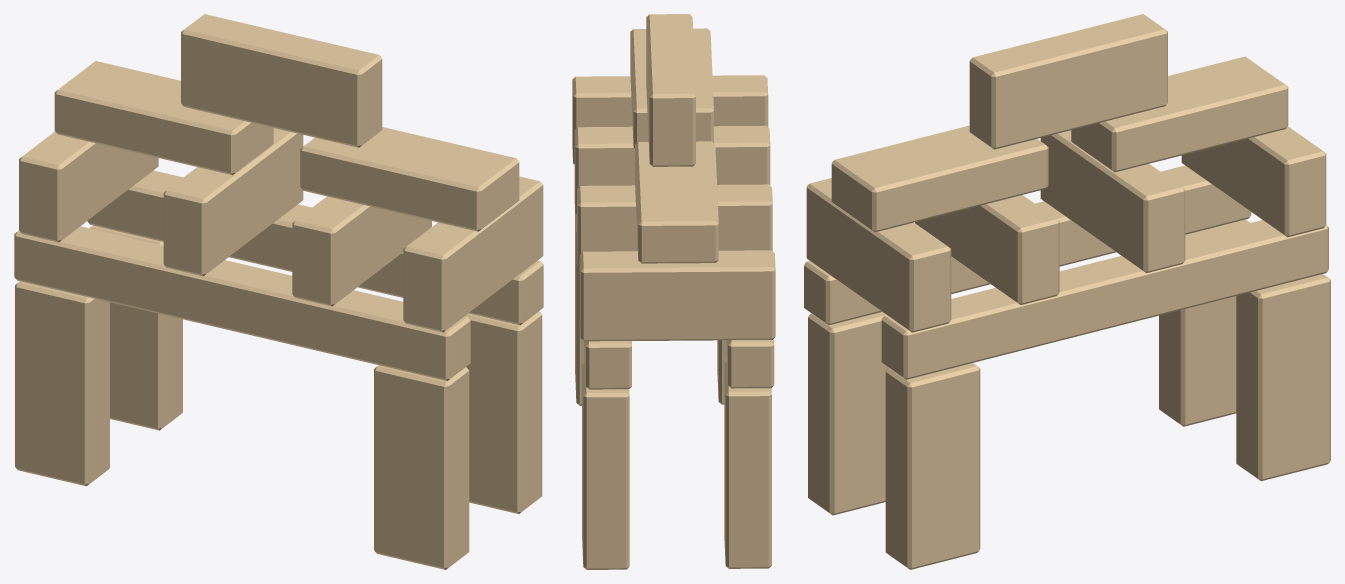
The model's file is COTR_3_d.glb.
3 views of the same model, side by side, from view 1: azimuth 30°, elevation 25°; view 2: azimuth 150°, elevation 25°; view 3: azimuth 270°, elevation 25° (orthographic). The views are drawn at different scales.
Parts seen in each view (by area): view 1: CUBE_LON.040, CUBE_LON.046, CUBE_LON.047, CUBE_LON.038, CUBE_LON.048; view 2: CUBE_LON.047, CUBE_LON.046, CUBE_LON.038, CUBE_LON.040, CUBE_LON.048; view 3: CUBE_LON.038, CUBE_LON.046, CUBE_LON.047, CUBE_LON.040, CUBE_LON.048.
Boxes of the visible parts, <box> form: CUBE_LON.040: <box>14,226,470,569</box>; CUBE_LON.046: <box>292,127,543,332</box>; CUBE_LON.047: <box>19,61,303,276</box>; CUBE_LON.038: <box>87,170,543,513</box>; CUBE_LON.048: <box>181,14,382,147</box>; CUBE_LON.047: <box>577,141,775,341</box>; CUBE_LON.046: <box>572,28,770,215</box>; CUBE_LON.038: <box>575,212,631,569</box>; CUBE_LON.040: <box>717,339,774,568</box>; CUBE_LON.048: <box>646,14,695,166</box>; CUBE_LON.038: <box>881,220,1330,569</box>; CUBE_LON.046: <box>806,125,1059,332</box>; CUBE_LON.047: <box>1040,56,1326,273</box>; CUBE_LON.040: <box>804,165,1251,515</box>; CUBE_LON.048: <box>969,14,1167,149</box>.
Size of the model in its own units: 16.41 by 18.72 by 20.29.
